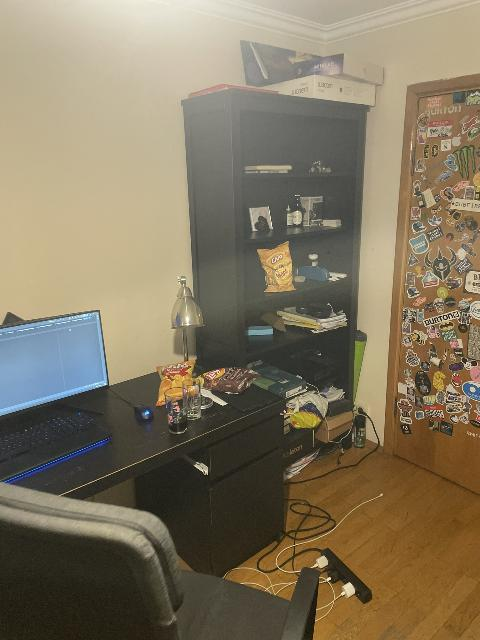Chio Cascaval 125g: (155, 359, 199, 406)
Chio Hula Hoops Cheese 70g: (257, 241, 296, 292)
Lays Beef Grilled Ribs 125g: (204, 366, 256, 394)
